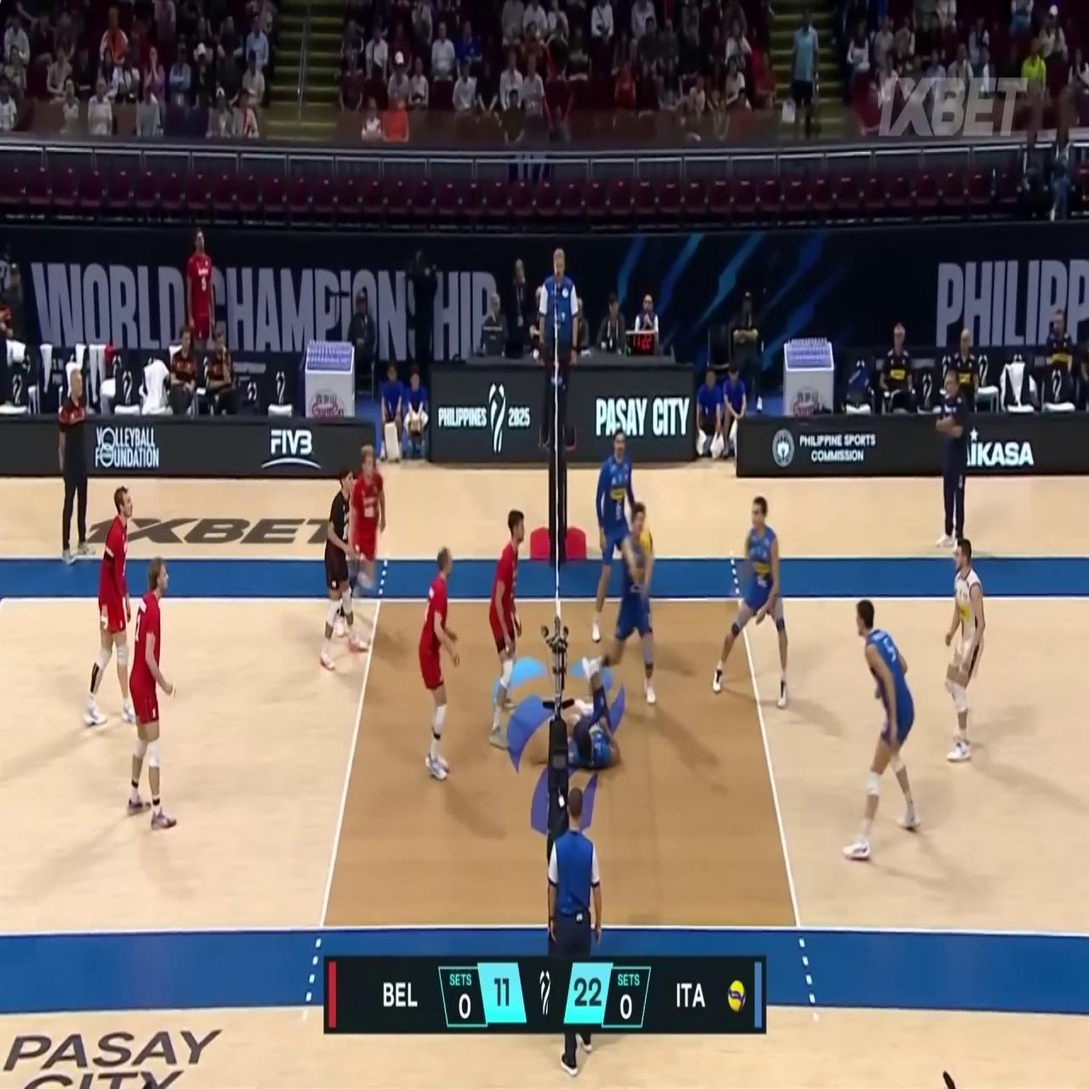ball: (638, 527, 653, 556)
